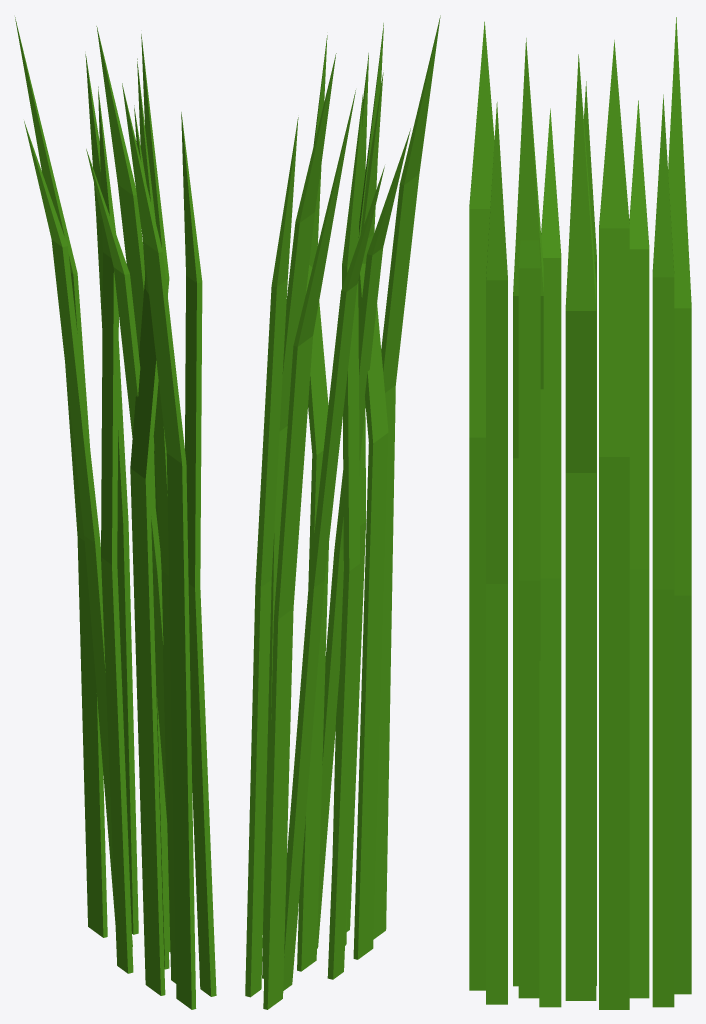
The model's file is Grass_i_01.fbx.
3 renders of one model, left to right at view 1: azimuth 30°, elevation 25°; view 2: azimuth 150°, elevation 25°; view 3: azimuth 270°, elevation 25°, orthographic.
Parts seen in each view (by area): view 1: Grass_i_01_LOD0; view 2: Grass_i_01_LOD0; view 3: Grass_i_01_LOD0.
Part boxes in pixels (x1,y1,x2,y2): Grass_i_01_LOD0: (15, 17, 216, 1009); Grass_i_01_LOD0: (245, 15, 440, 1009); Grass_i_01_LOD0: (469, 17, 691, 1009).
Size of what is drawn, in the model's own units: 4.35 by 30.54 by 6.56.
